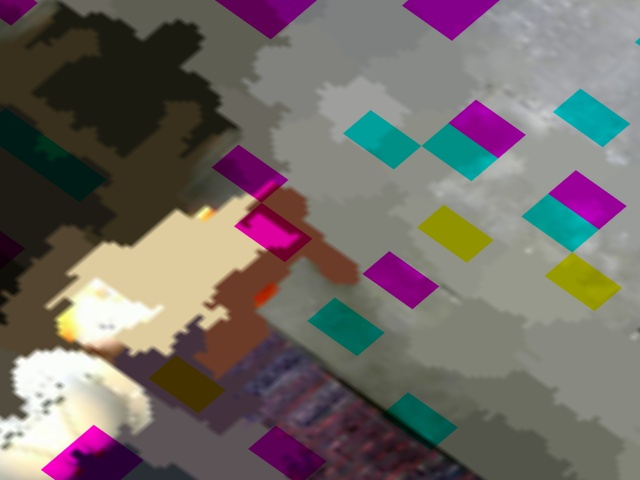three: (10, 370, 72, 419)
